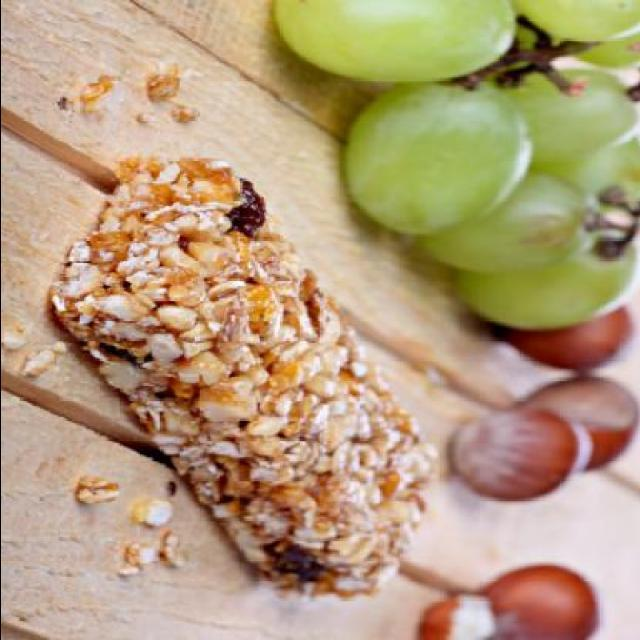Cereal bar packaged: (62, 157, 444, 601)
